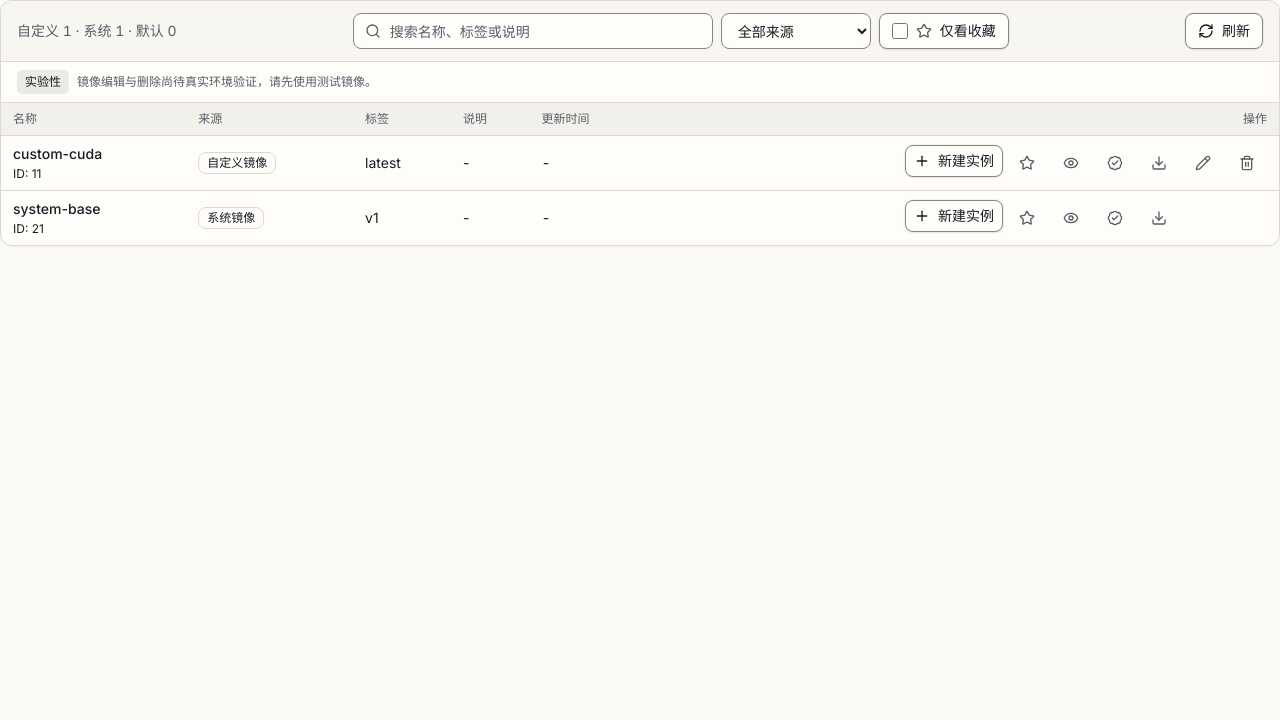
Scenario: ImagesPage › keeps edit input after backend rejection and permits a corrected retry
The image size is (1280, 720).
Click the button named "编辑镜像 custom-cuda".
click(1203, 163)  # box [1183,145,1223,181]
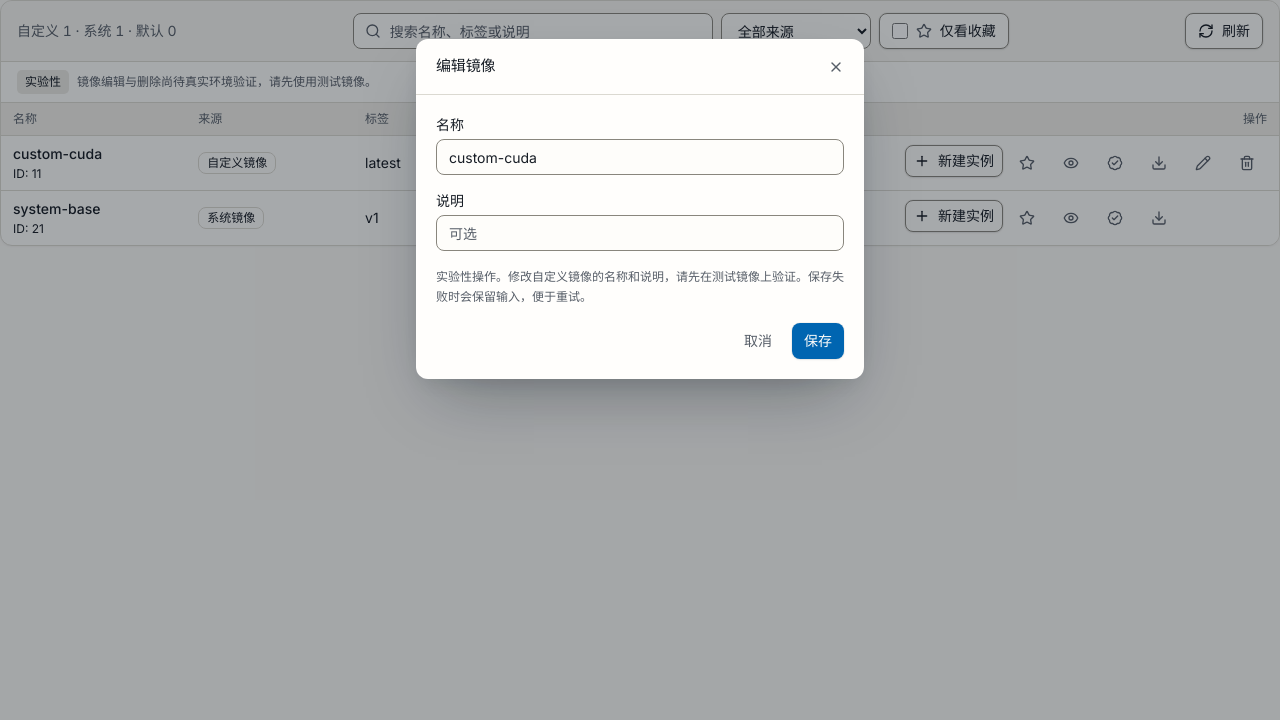
Replace the text in the field labelled "名称" with "retry-image" at (640, 157), box [436,139,844,175]
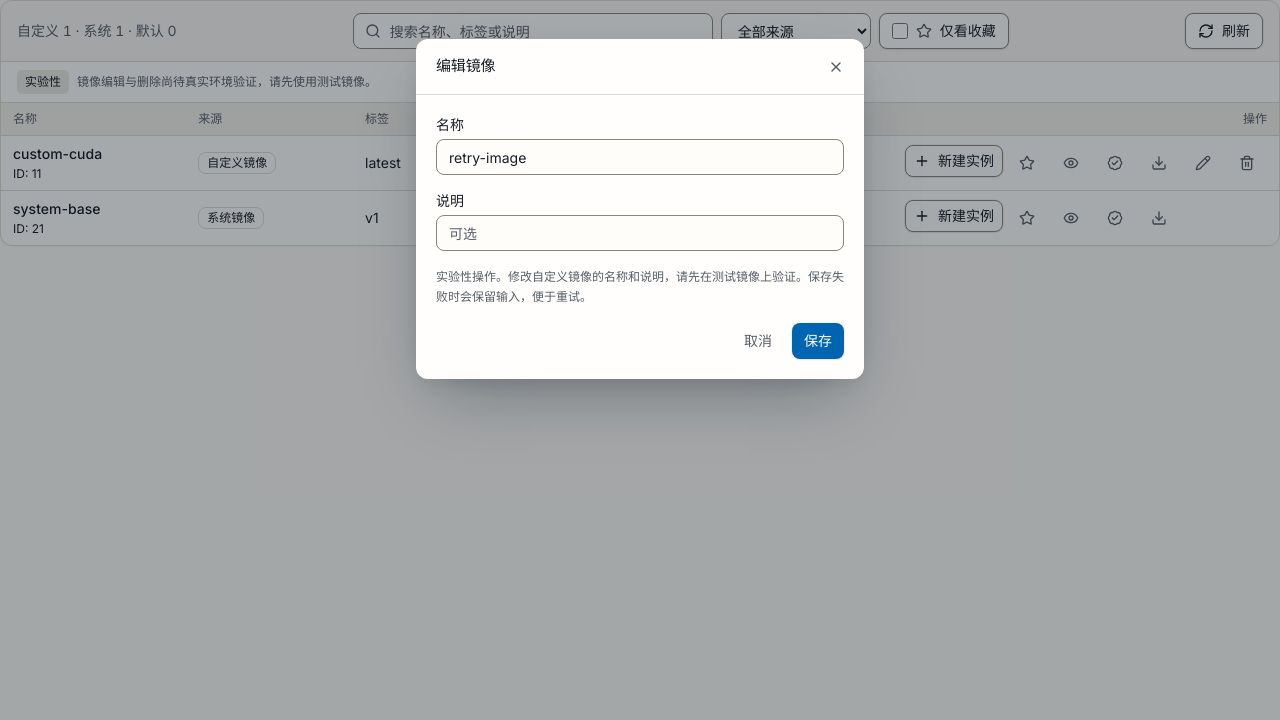
Click the button "保存".
click(818, 341)  # box [792,323,844,359]
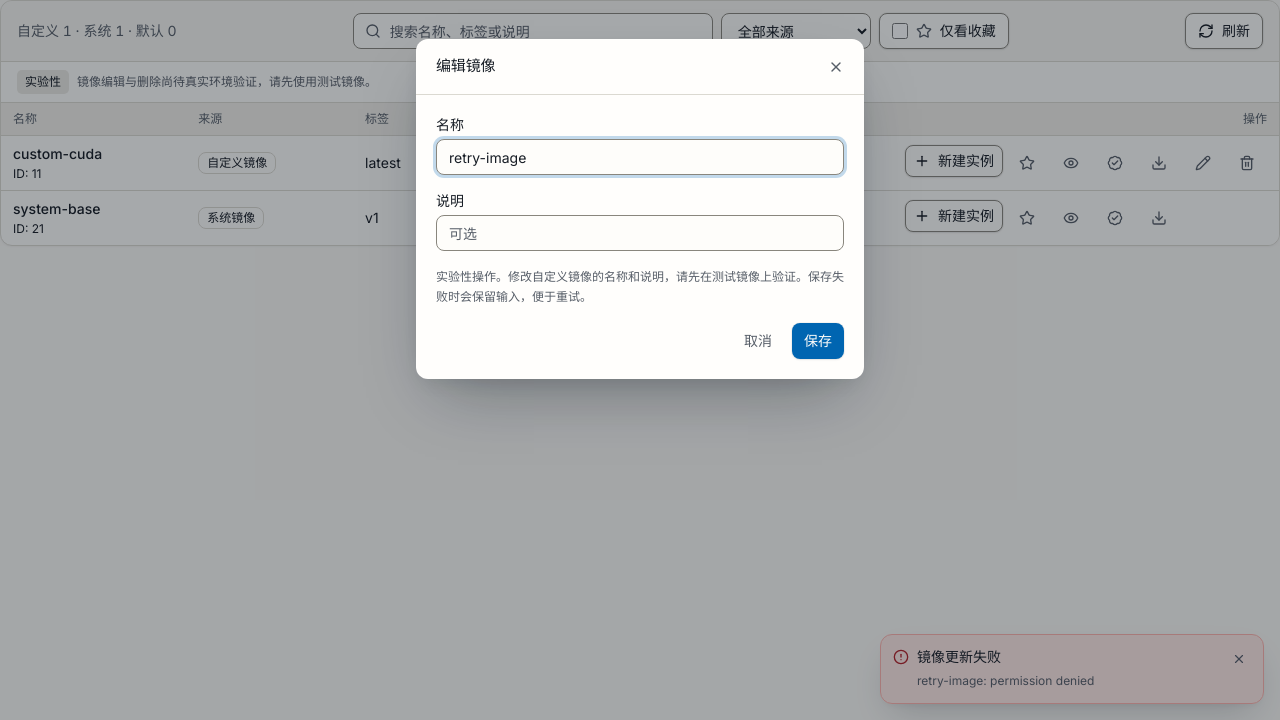
expect the text "retry-image: permission denied" is shown: met, box [917,673,1094,688]
Click the button "保存".
click(818, 341)  # box [792,323,844,359]
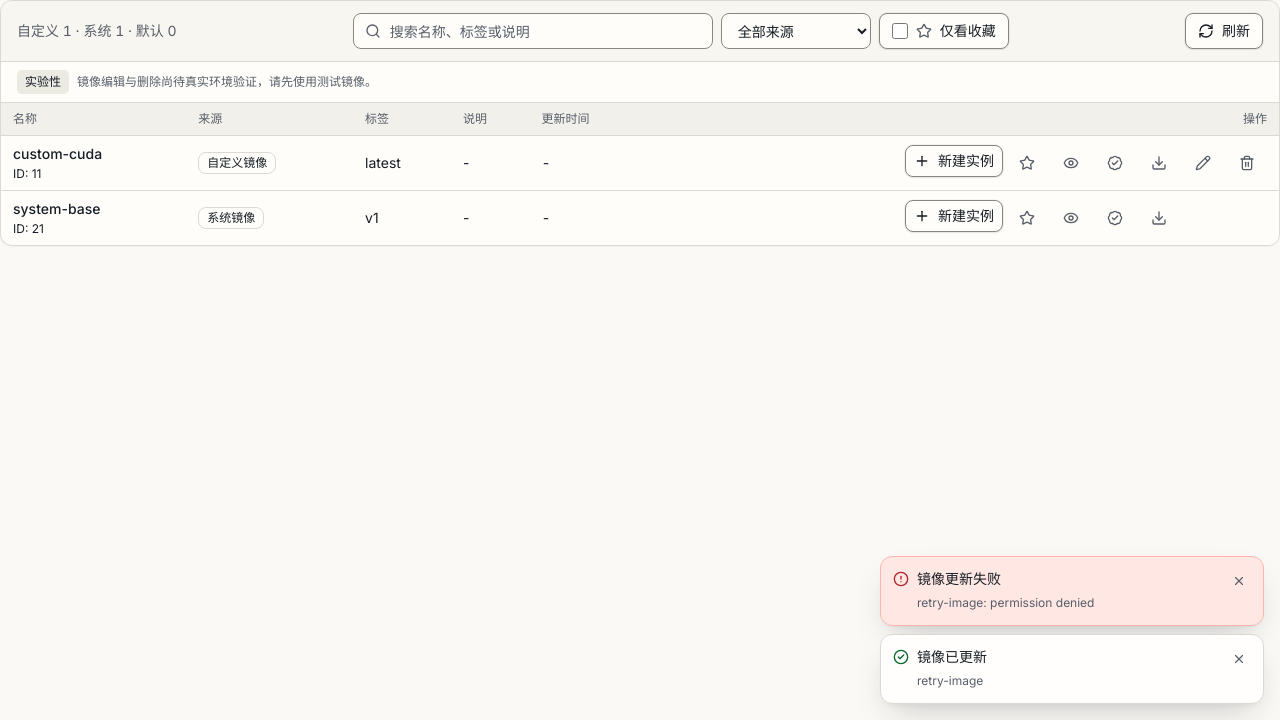
expect the heading "编辑镜像" is gone: met
